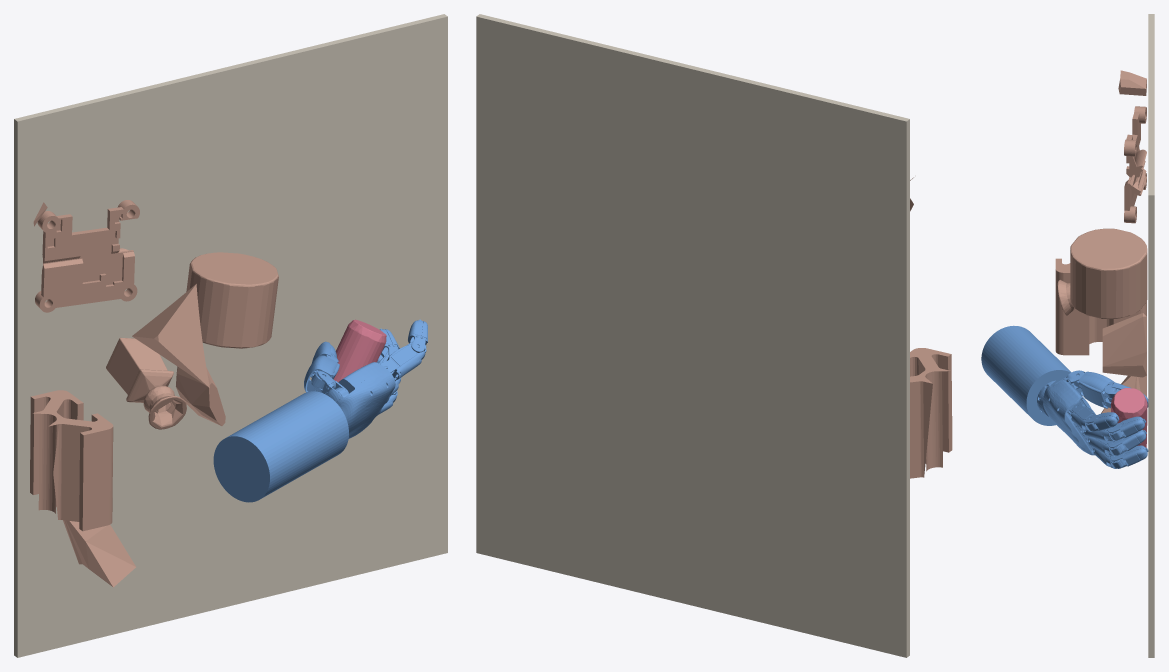
3 renders of one model, left to right at view 1: azimuth 30°, elevation 25°; view 2: azimuth 150°, elevation 25°; view 3: azimuth 270°, elevation 25°, orthographic. The views are drawn at different scales.
Visible parts, largest first — view 1: environment, hand, obstacle_005, obstacle_001, obstacle_004, obstacle_003, obstacle_002, obstacle_007, world, obstacle_000; view 2: environment, obstacle_005; view 3: hand, obstacle_004, environment, obstacle_005, obstacle_000, obstacle_001, world, obstacle_006, obstacle_003, obstacle_007.
Boxes of the visible parts, x1=… form: environment: x1=14, y1=14, x2=447, y2=657; hand: x1=213, y1=319, x2=427, y2=502; obstacle_005: x1=30, y1=390, x2=113, y2=531; obstacle_001: x1=35, y1=200, x2=139, y2=312; obstacle_004: x1=186, y1=252, x2=278, y2=348; obstacle_003: x1=106, y1=337, x2=186, y2=429; obstacle_002: x1=132, y1=284, x2=209, y2=387; obstacle_007: x1=63, y1=520, x2=135, y2=587; world: x1=333, y1=319, x2=386, y2=382; obstacle_000: x1=176, y1=366, x2=225, y2=425; environment: x1=476, y1=14, x2=909, y2=657; obstacle_005: x1=910, y1=348, x2=952, y2=478; hand: x1=981, y1=325, x2=1148, y2=468; obstacle_004: x1=1070, y1=228, x2=1147, y2=318; environment: x1=1148, y1=14, x2=1154, y2=657; obstacle_005: x1=1055, y1=258, x2=1146, y2=355; obstacle_000: x1=1102, y1=313, x2=1146, y2=377; obstacle_001: x1=1124, y1=106, x2=1146, y2=223; world: x1=1111, y1=388, x2=1147, y2=447; obstacle_006: x1=1118, y1=70, x2=1146, y2=95; obstacle_003: x1=1057, y1=280, x2=1146, y2=315; obstacle_007: x1=1101, y1=375, x2=1146, y2=413.
Bounding box in the file's own units: 0.5725 × 0.6718 × 0.2277.
